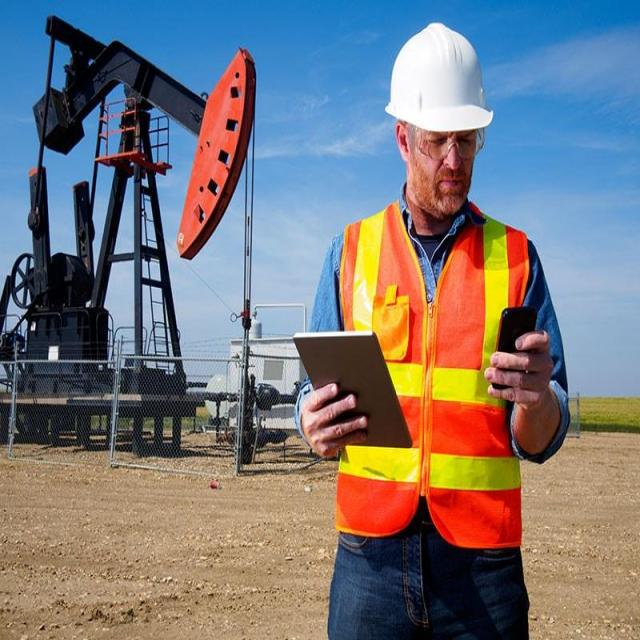Reflective-Jacket: (330, 208, 530, 546)
Safety-Helmet: (382, 20, 496, 138)
